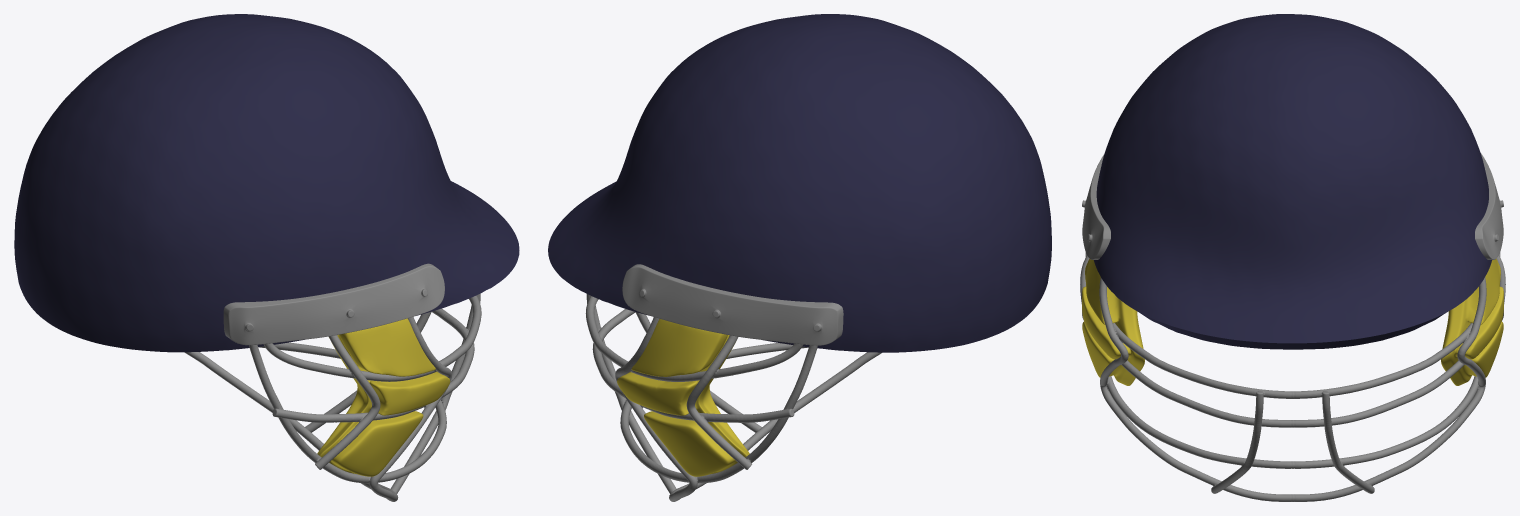
The model's file is cricket helmet.fbx.
3 views of the same model, side by side, from view 1: azimuth 30°, elevation 25°; view 2: azimuth 150°, elevation 25°; view 3: azimuth 270°, elevation 25° (orthographic). The views are drawn at different scales.
Parts seen in each view (by area): view 1: Icosphere.001, BezierCurve.004, Plane.001, Plane; view 2: Icosphere.001, BezierCurve.004, Plane.001, Plane; view 3: Icosphere.001, BezierCurve.004, Plane.001, Plane.
Part boxes in pixels (bbox=[...]): Icosphere.001: bbox=[14, 14, 519, 352]; BezierCurve.004: bbox=[184, 293, 481, 501]; Plane.001: bbox=[317, 318, 450, 476]; Plane: bbox=[223, 263, 444, 345]; Icosphere.001: bbox=[548, 14, 1051, 352]; BezierCurve.004: bbox=[585, 294, 881, 501]; Plane.001: bbox=[617, 319, 749, 476]; Plane: bbox=[622, 264, 843, 345]; Icosphere.001: bbox=[1094, 14, 1491, 349]; BezierCurve.004: bbox=[1080, 252, 1505, 501]; Plane.001: bbox=[1082, 258, 1503, 385]; Plane: bbox=[1082, 153, 1503, 259].
Bounding box in the file's own units: 25.61 × 25.94 × 23.89.
